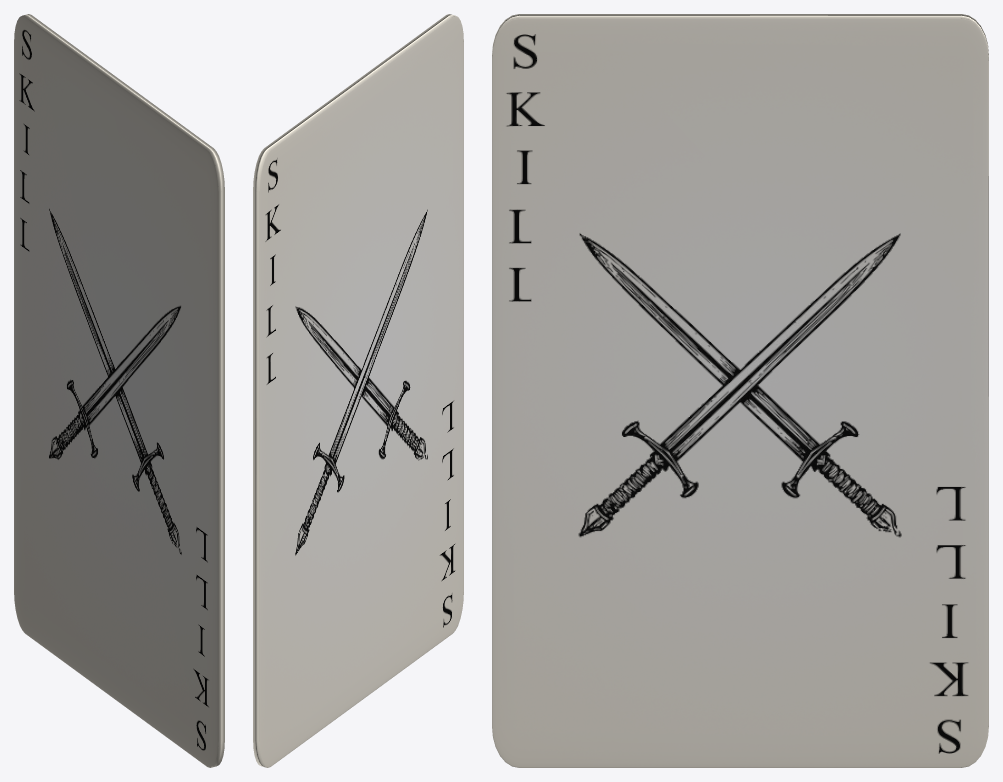
File: SkillCard.fbx
The picture shows the model from 3 angles, left to right: view 1: azimuth 30°, elevation 25°; view 2: azimuth 150°, elevation 25°; view 3: azimuth 270°, elevation 25°; orthographic projection. The views are drawn at different scales.
Parts seen in each view (by area): view 1: Cube; view 2: Cube; view 3: Cube.
Boxes of the visible parts, x1=… form: Cube: x1=14, y1=14, x2=224, y2=767; Cube: x1=253, y1=14, x2=463, y2=767; Cube: x1=492, y1=14, x2=988, y2=767.
Bounding box in the file's own units: 4.1 × 333 × 200.
